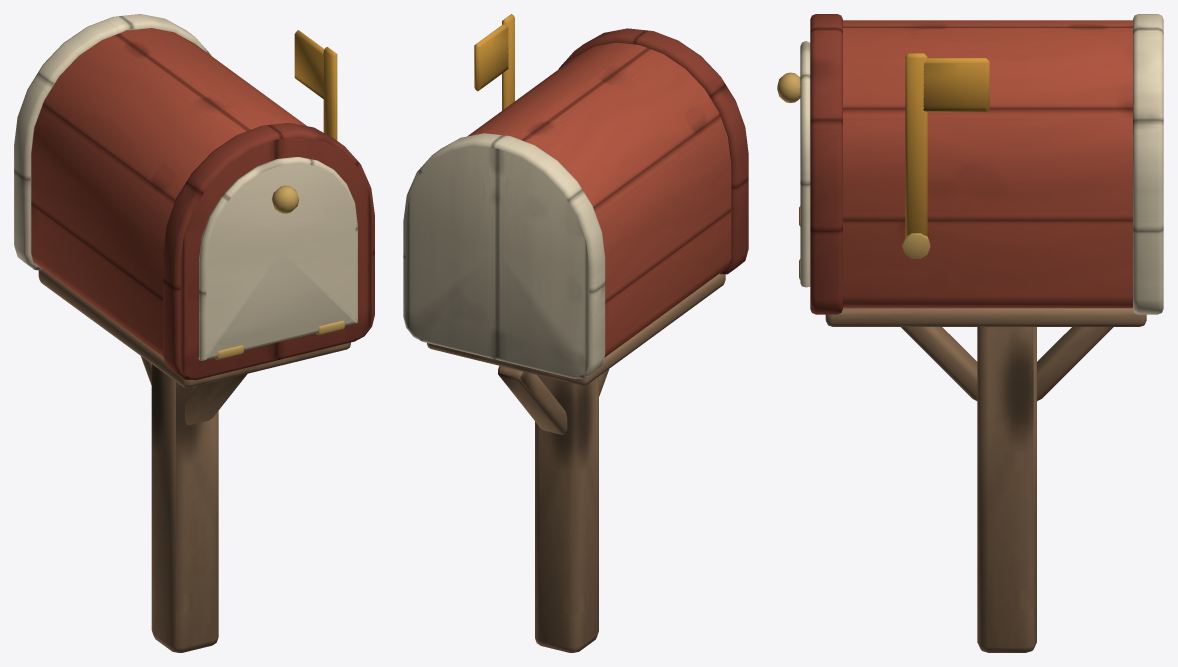
File: mailbox.glb
3 views of the same model, side by side, from view 1: azimuth 30°, elevation 25°; view 2: azimuth 150°, elevation 25°; view 3: azimuth 270°, elevation 25° (orthographic). The views are drawn at different scales.
Parts seen in each view (by area): view 1: mailbox; view 2: mailbox; view 3: mailbox.
Boxes of the visible parts, x1,y1,x2,y2 form: mailbox: (14,14,374,652); mailbox: (403,14,748,652); mailbox: (777,14,1163,652).
Size of the model in its own units: 0.381 by 1.02 by 0.553.
3 materials, 2 textured.
